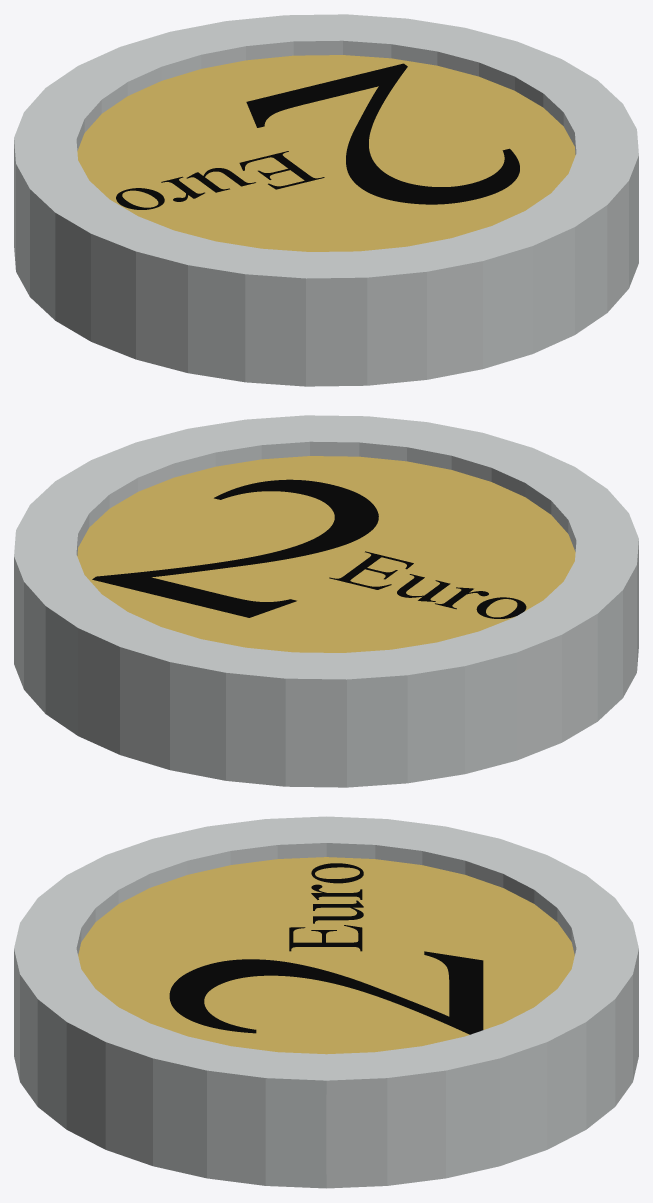
Rendered from 2euro.obj.
3 views of the same model, one above another, from view 1: azimuth 30°, elevation 25°; view 2: azimuth 150°, elevation 25°; view 3: azimuth 270°, elevation 25° (orthographic).
Visible parts, largest first — view 1: Cylinder, Text, Text.001; view 2: Cylinder, Text, Text.001; view 3: Cylinder, Text, Text.001.
Boxes of the visible parts, left/top/right/bottom form: Cylinder: left=14, top=14, right=638, bottom=386; Text: left=246, top=63, right=519, bottom=204; Text.001: left=116, top=151, right=324, bottom=209; Cylinder: left=14, top=415, right=638, bottom=787; Text: left=92, top=479, right=378, bottom=617; Text.001: left=329, top=551, right=526, bottom=618; Cylinder: left=14, top=816, right=638, bottom=1188; Text: left=169, top=951, right=483, bottom=1034; Text.001: left=289, top=863, right=363, bottom=951.
Bounding box in the file's own units: 2 × 0.3809 × 2.
